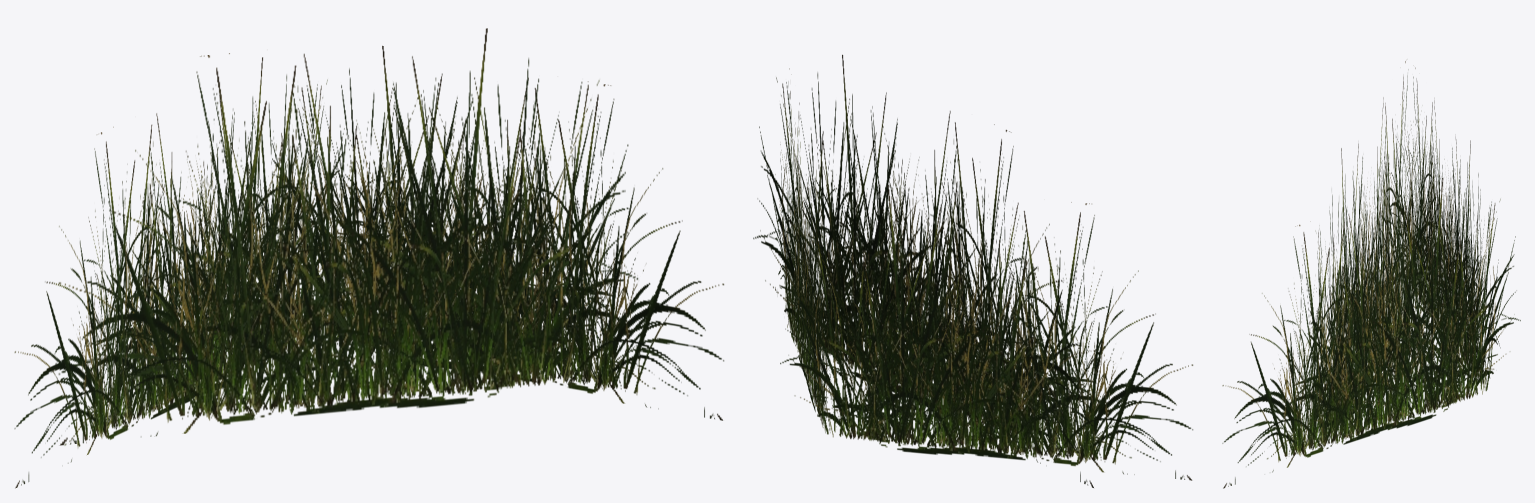
Rendered from pasto.glb.
The picture shows the model from 3 angles, left to right: view 1: azimuth 30°, elevation 25°; view 2: azimuth 150°, elevation 25°; view 3: azimuth 270°, elevation 25°; orthographic projection. The views are drawn at different scales.
Visible parts, largest first — view 1: alfa_pasto_1, alfa_pasto_3, alfa_pasto_2; view 2: alfa_pasto_2, alfa_pasto_1, alfa_pasto_3; view 3: alfa_pasto_3, alfa_pasto_1, alfa_pasto_2.
Part boxes in pixels (x1,y1,x2,y2): alfa_pasto_1: [58, 28, 638, 445]; alfa_pasto_3: [270, 45, 723, 420]; alfa_pasto_2: [14, 57, 345, 488]; alfa_pasto_2: [780, 185, 1192, 480]; alfa_pasto_1: [753, 54, 1094, 487]; alfa_pasto_3: [775, 68, 830, 432]; alfa_pasto_3: [1222, 178, 1520, 488]; alfa_pasto_1: [1306, 61, 1439, 444]; alfa_pasto_2: [1388, 67, 1500, 389].
Size of the model in its own units: 3.05 by 1.82 by 1.73.
Materials: 1 (1 with a texture image).
